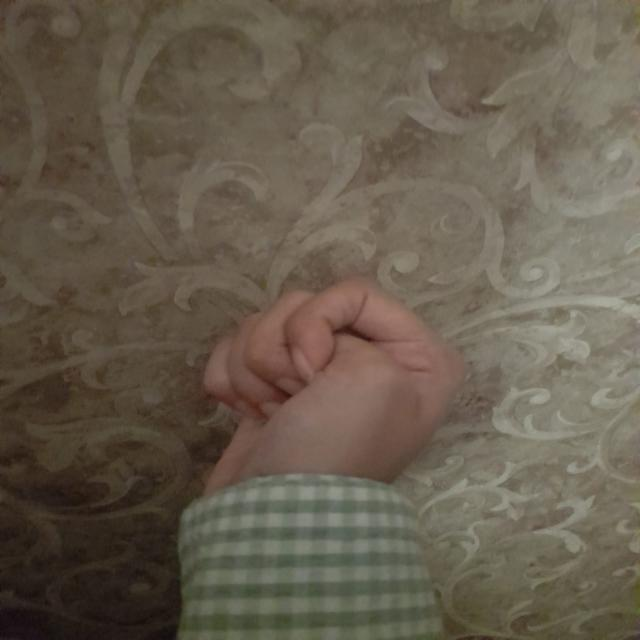Closed Hand: (199, 275, 467, 477)
